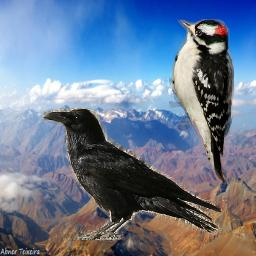Crow: (43, 108, 222, 240)
Woodpecker: (169, 19, 234, 184)
